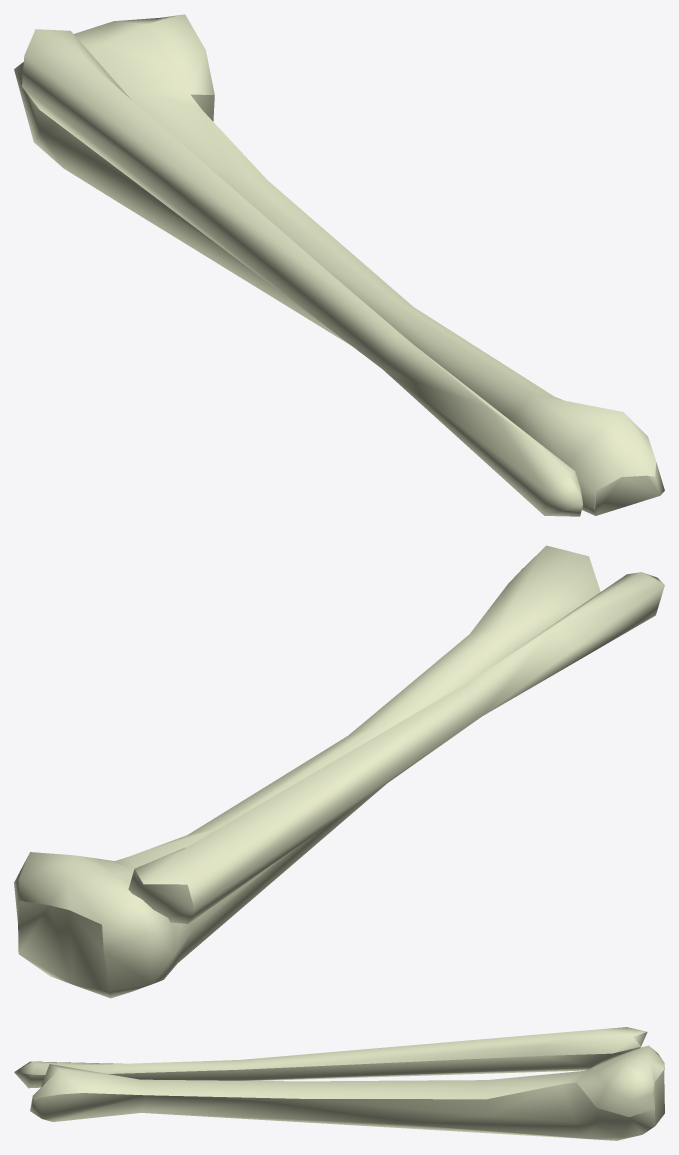
Rendered from T_bone_2 (1).fbx.
The picture shows the model from 3 angles, top to bottom: view 1: azimuth 30°, elevation 25°; view 2: azimuth 150°, elevation 25°; view 3: azimuth 270°, elevation 25°; orthographic projection. The views are drawn at different scales.
Parts seen in each view (by area): view 1: Cylinder; view 2: Cylinder; view 3: Cylinder.
Boxes of the visible parts, x1=… form: Cylinder: x1=14, y1=14, x2=664, y2=516; Cylinder: x1=14, y1=545, x2=664, y2=998; Cylinder: x1=14, y1=1027, x2=664, y2=1140.
Size of the model in its own units: 158 by 128 by 823.
